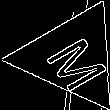M_NE: (33, 24, 109, 90)
